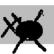not correct: (2, 7, 48, 54)
